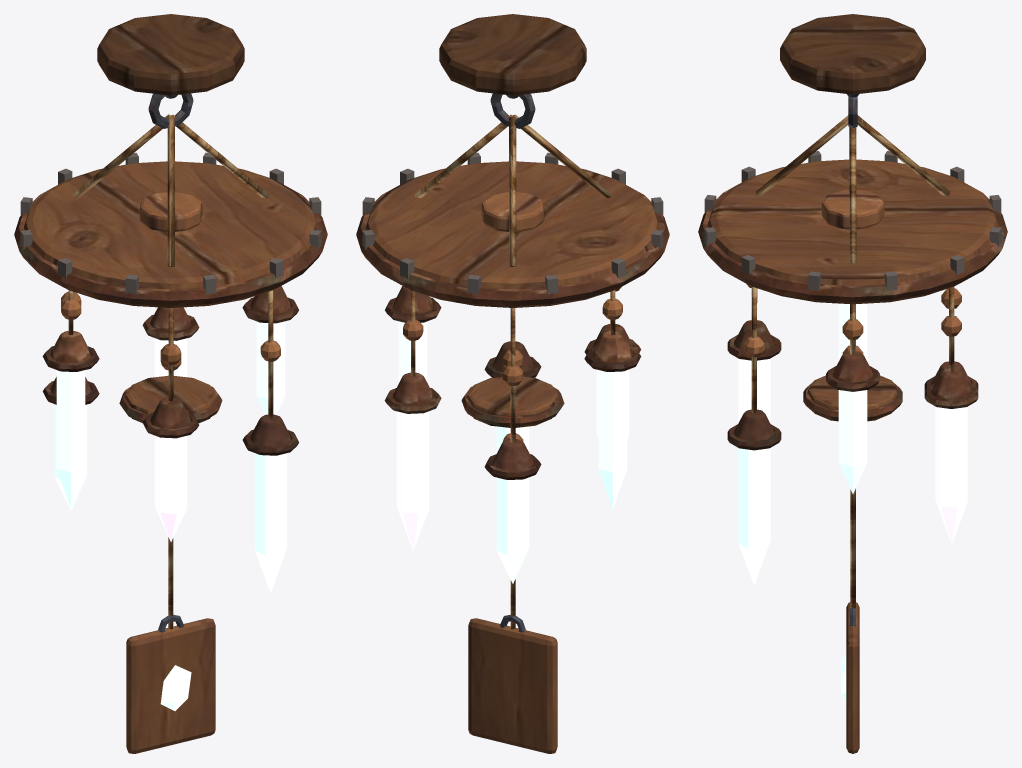
The model's file is wind_chime.glb.
The picture shows the model from 3 angles, left to right: view 1: azimuth 30°, elevation 25°; view 2: azimuth 150°, elevation 25°; view 3: azimuth 270°, elevation 25°; orthographic projection.
Visible parts, largest first — view 1: model; view 2: model; view 3: model.
Part boxes in pixels (left/top/right/bottom): model: left=14, top=14, right=327, bottom=753; model: left=356, top=14, right=669, bottom=753; model: left=698, top=14, right=1007, bottom=753.
Bounding box in the file's own units: 0.34 × 0.84 × 0.34.
11 materials, 7 textured.
